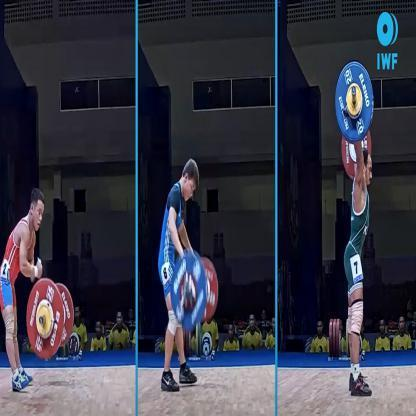barbell: (333, 62, 375, 180), (167, 250, 220, 332), (25, 278, 76, 361)
